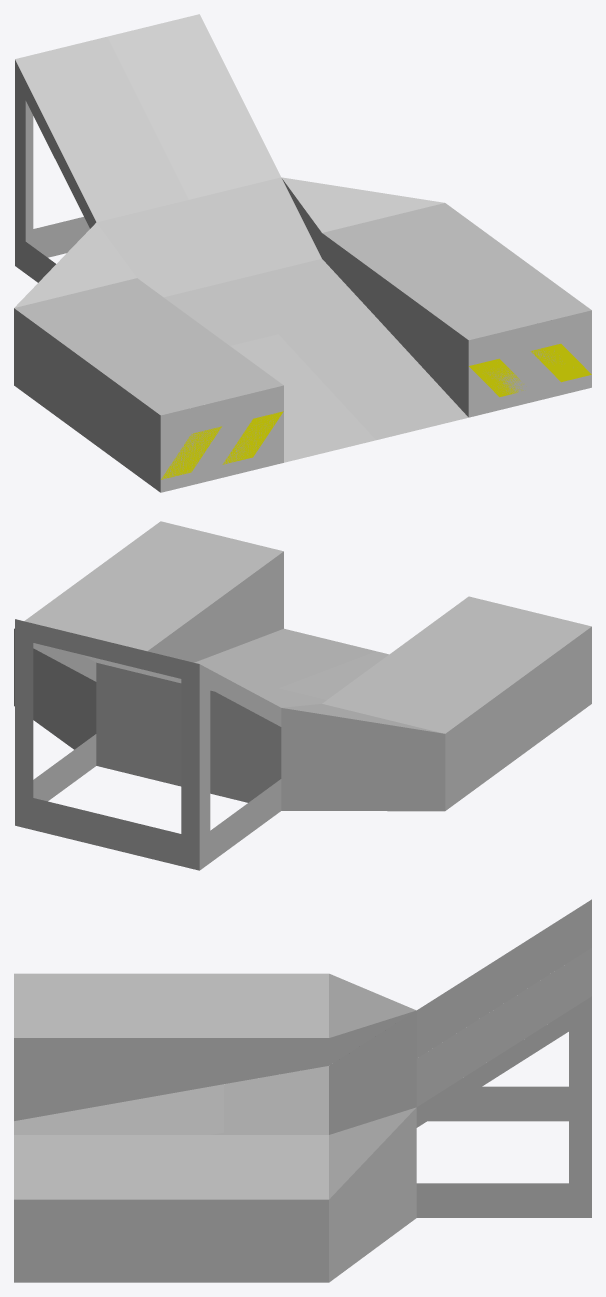
File: prmpc.glb
3 views of the same model, one above another, from view 1: azimuth 30°, elevation 25°; view 2: azimuth 150°, elevation 25°; view 3: azimuth 270°, elevation 25° (orthographic). The views are drawn at different scales.
Visible parts, largest first — view 1: prmpc; view 2: prmpc; view 3: prmpc.
Part boxes in pixels (x1,y1,x2,y2): prmpc: (14,14,591,492); prmpc: (14,521,591,870); prmpc: (14,899,591,1282).
Bounding box in the file's own units: 14 × 6.41 × 15.13.
